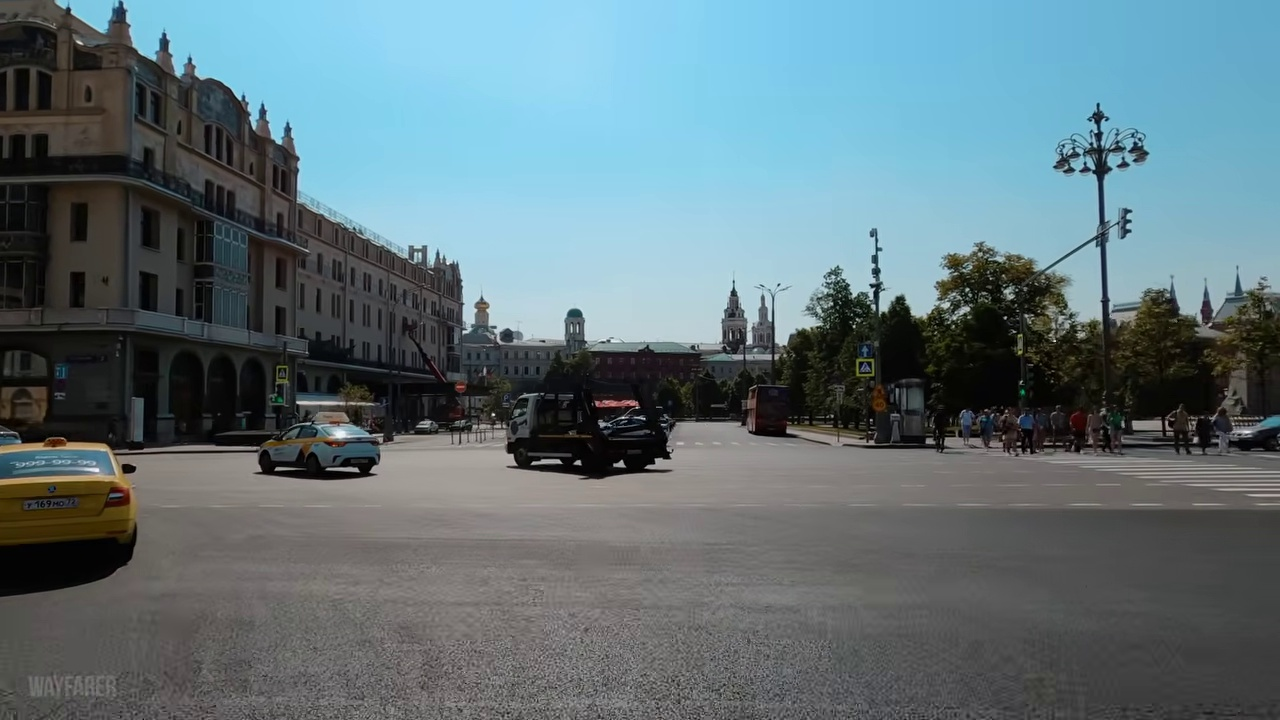apagada: (1058, 135, 1149, 180), (1092, 209, 1136, 247)
